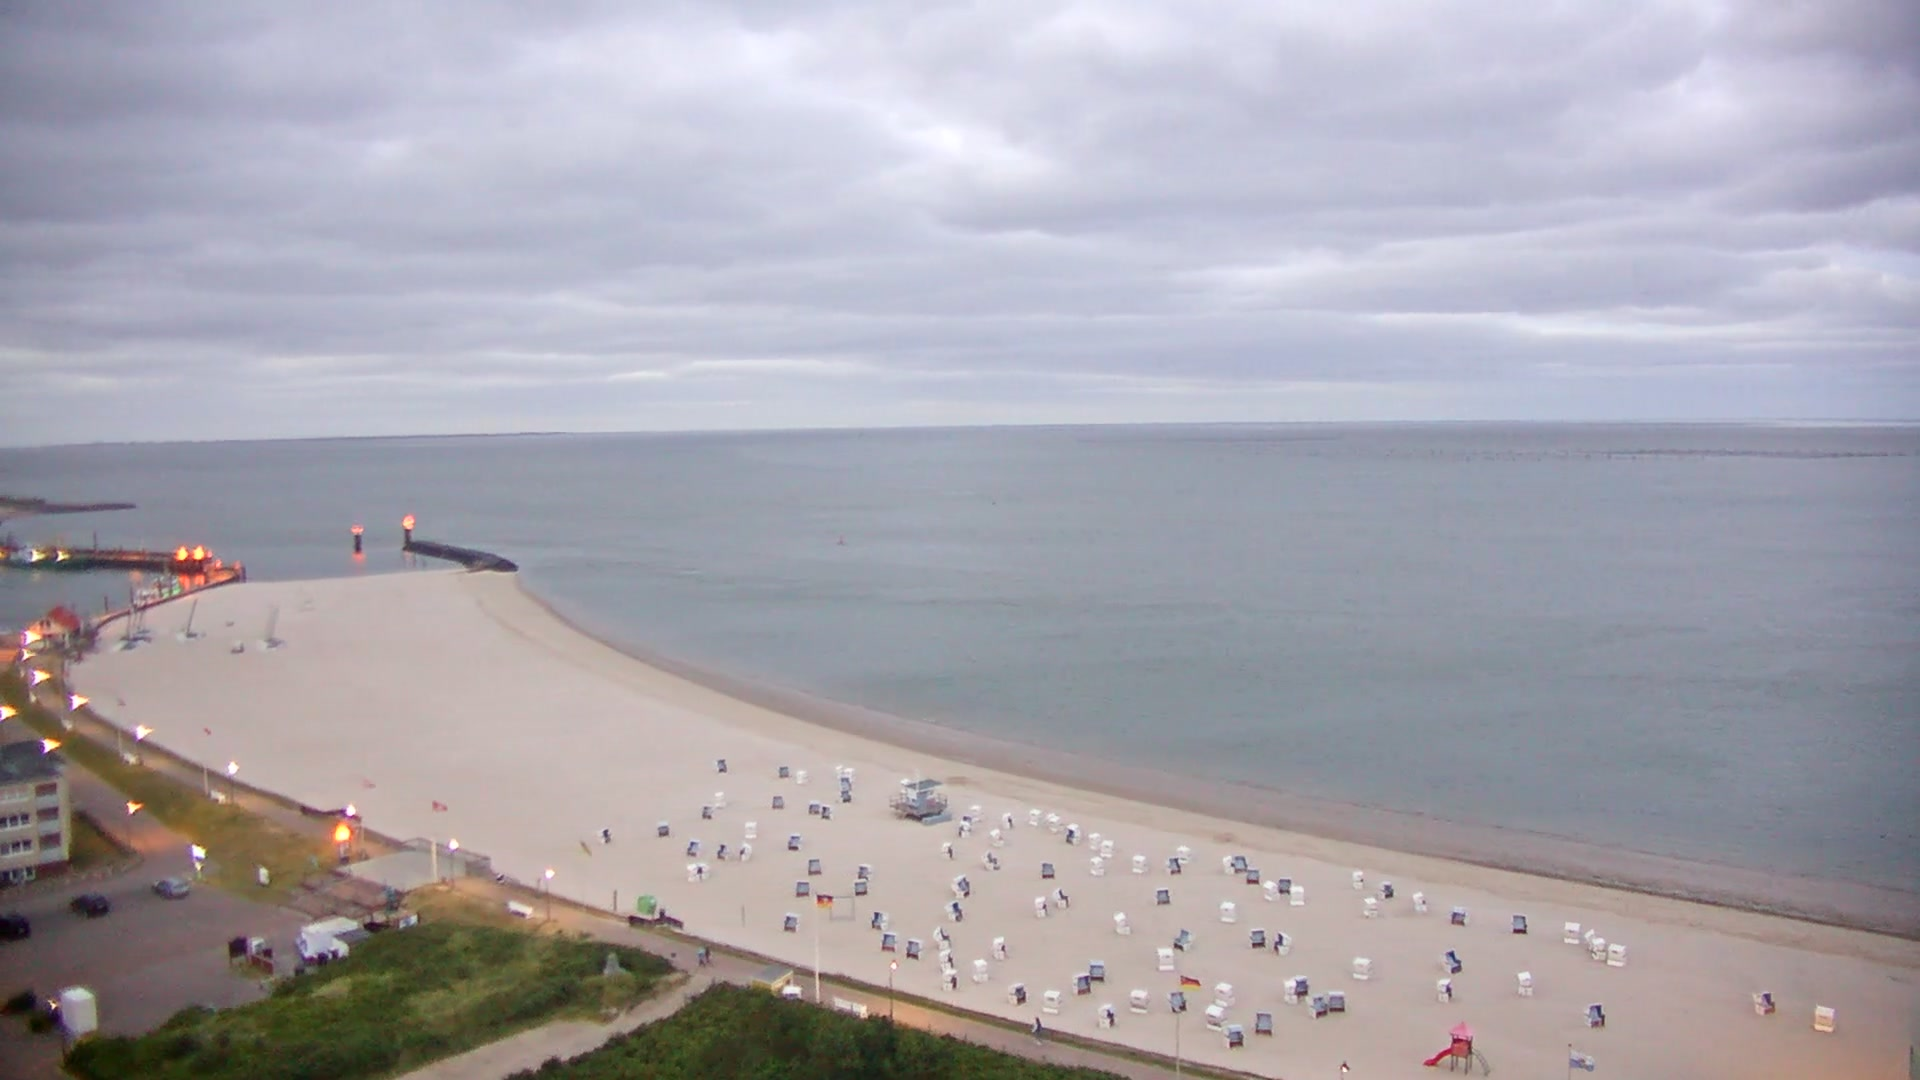human: (1031, 1015, 1043, 1045), (704, 945, 713, 963), (697, 945, 706, 965)
land: (69, 892, 110, 917), (1, 908, 31, 940), (151, 875, 190, 899)
